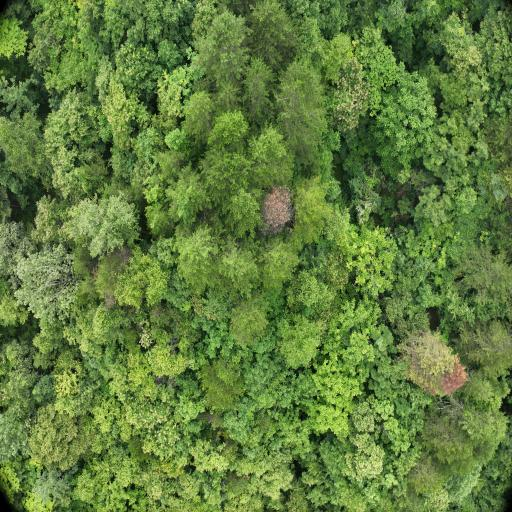sick-tree: (413, 346, 466, 386), (266, 193, 289, 228)
